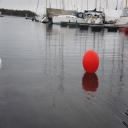red: (82, 50, 100, 73)
